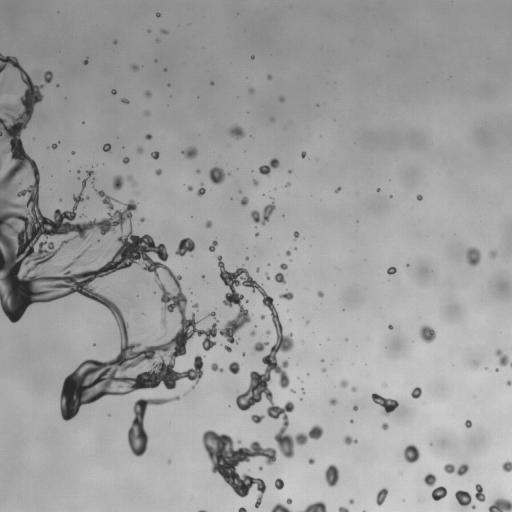droplet: (423, 471, 447, 502), (370, 392, 398, 416), (208, 166, 231, 185), (258, 158, 280, 177), (454, 490, 476, 509), (174, 237, 195, 256), (324, 464, 340, 487), (418, 324, 437, 343), (464, 246, 481, 266), (494, 348, 511, 367), (403, 444, 420, 463), (270, 497, 293, 511), (488, 498, 511, 511), (228, 123, 246, 139), (180, 146, 198, 159), (376, 486, 388, 505), (474, 483, 485, 502), (228, 361, 242, 374), (278, 288, 293, 300), (411, 385, 422, 399), (343, 435, 358, 445), (274, 272, 286, 284), (195, 182, 205, 196), (210, 362, 224, 372), (501, 459, 511, 472), (151, 18, 162, 29), (31, 74, 42, 85), (18, 130, 29, 141), (0, 138, 11, 149), (21, 140, 32, 151), (144, 140, 155, 151), (187, 157, 198, 168), (117, 165, 128, 176), (103, 184, 114, 195), (243, 186, 254, 197), (119, 192, 130, 203), (60, 201, 71, 212), (96, 209, 107, 220), (283, 236, 294, 247), (194, 241, 205, 252), (165, 243, 176, 254), (274, 282, 285, 293), (234, 283, 245, 294), (25, 303, 36, 314), (262, 317, 273, 328), (108, 320, 119, 331), (109, 323, 120, 334), (214, 333, 225, 344), (190, 334, 201, 345), (184, 339, 195, 350), (192, 344, 203, 355), (107, 348, 118, 359), (274, 350, 285, 361), (228, 351, 239, 362), (223, 352, 234, 363), (183, 358, 194, 369), (172, 361, 183, 372), (255, 362, 266, 373), (268, 371, 279, 382), (175, 377, 186, 388), (240, 377, 251, 388), (266, 379, 277, 390), (137, 387, 148, 398), (333, 387, 344, 398), (52, 396, 63, 407), (258, 397, 269, 408), (251, 402, 262, 413), (141, 418, 152, 429), (285, 426, 296, 437), (253, 454, 264, 465), (202, 457, 213, 468), (234, 463, 245, 474), (263, 463, 274, 474), (444, 491, 455, 502), (484, 494, 495, 505), (261, 499, 272, 510), (274, 478, 284, 490), (44, 70, 53, 83), (102, 142, 112, 153), (477, 501, 488, 511), (208, 239, 217, 251), (240, 196, 249, 207), (386, 266, 397, 275), (339, 378, 348, 388), (151, 28, 160, 37), (4, 63, 13, 72), (32, 102, 41, 111), (225, 119, 234, 128), (228, 135, 237, 144), (238, 135, 247, 144), (152, 158, 161, 167), (203, 178, 212, 187), (83, 185, 92, 194), (244, 203, 253, 212), (45, 210, 54, 219), (479, 252, 488, 261), (459, 255, 468, 264), (226, 263, 235, 272), (216, 321, 225, 330), (412, 327, 421, 336), (268, 335, 277, 344), (415, 336, 424, 345), (261, 346, 270, 355), (196, 347, 205, 356), (220, 360, 229, 369), (201, 362, 210, 371), (500, 364, 509, 373), (284, 367, 293, 376), (287, 378, 296, 387), (288, 394, 297, 403), (78, 403, 87, 412), (262, 415, 271, 424), (301, 425, 310, 434), (241, 439, 250, 448), (269, 439, 278, 448), (291, 442, 300, 451), (274, 450, 283, 459), (213, 472, 222, 481), (317, 473, 326, 482), (265, 480, 274, 489), (224, 484, 233, 493), (248, 485, 257, 494), (446, 488, 455, 497), (308, 495, 317, 504), (150, 151, 159, 159), (488, 250, 497, 258), (464, 419, 472, 428), (258, 505, 269, 511), (325, 505, 336, 511), (374, 505, 385, 511), (459, 505, 470, 511), (329, 397, 337, 405), (130, 64, 139, 71), (191, 302, 198, 311), (144, 90, 151, 98), (136, 146, 143, 154), (122, 156, 129, 164), (205, 220, 212, 228), (279, 262, 287, 269), (381, 422, 388, 430), (0, 93, 5, 104), (0, 167, 5, 178), (0, 309, 5, 320), (120, 98, 129, 104), (155, 168, 162, 175), (334, 186, 341, 193), (317, 290, 324, 297), (350, 385, 357, 392), (50, 77, 57, 84), (29, 114, 36, 121), (241, 125, 248, 132), (181, 143, 188, 150), (196, 147, 203, 154), (10, 158, 17, 165), (216, 161, 223, 168), (79, 171, 86, 178), (285, 174, 292, 181), (222, 175, 229, 182), (121, 180, 128, 187), (192, 184, 199, 191), (268, 213, 275, 220), (189, 234, 196, 241), (214, 247, 221, 254), (281, 256, 288, 263), (475, 262, 482, 269), (181, 288, 188, 295), (72, 291, 79, 298), (98, 303, 105, 310), (231, 303, 238, 310), (263, 307, 270, 314), (184, 312, 191, 319), (265, 313, 272, 320), (278, 315, 285, 322), (429, 322, 436, 329), (269, 326, 276, 333), (281, 328, 288, 335), (434, 330, 441, 337), (429, 339, 436, 346), (501, 348, 508, 355), (97, 355, 104, 362), (492, 355, 499, 362), (223, 367, 230, 374), (63, 369, 70, 376), (158, 381, 165, 388), (56, 383, 63, 390), (100, 394, 107, 401), (292, 400, 299, 407), (278, 401, 285, 408), (145, 403, 152, 410), (54, 408, 61, 415), (128, 412, 135, 419), (69, 416, 76, 423), (215, 428, 222, 435), (196, 431, 203, 438), (121, 432, 128, 439), (319, 433, 326, 440), (230, 434, 237, 441), (306, 436, 313, 443), (407, 438, 414, 445), (145, 440, 152, 447), (259, 441, 266, 448), (232, 443, 239, 450), (124, 445, 131, 452), (416, 445, 423, 452), (201, 449, 208, 456), (417, 453, 424, 460), (499, 456, 506, 463), (453, 462, 460, 469), (321, 463, 328, 470), (496, 465, 503, 472), (337, 470, 344, 477), (250, 471, 257, 478), (450, 471, 457, 478), (463, 471, 470, 478), (335, 478, 342, 485), (419, 480, 426, 487), (433, 480, 440, 487), (426, 485, 433, 492), (469, 488, 476, 495), (370, 493, 377, 500), (383, 496, 390, 503), (470, 496, 477, 503), (342, 501, 349, 508), (300, 502, 307, 509), (252, 178, 258, 186), (238, 506, 247, 511), (506, 493, 511, 502), (246, 506, 255, 511), (248, 87, 254, 94), (278, 96, 285, 102), (143, 110, 150, 116), (284, 181, 291, 187), (186, 185, 193, 191), (416, 194, 422, 201), (265, 330, 271, 337), (381, 381, 387, 388), (160, 29, 168, 34), (144, 134, 152, 139), (110, 89, 116, 95), (195, 168, 201, 174), (285, 250, 291, 256), (352, 405, 358, 411), (308, 458, 314, 464), (348, 498, 354, 504), (301, 151, 306, 158), (265, 272, 270, 279), (155, 12, 161, 17), (269, 117, 275, 122), (139, 217, 145, 222), (506, 380, 511, 386), (507, 354, 511, 361), (507, 469, 511, 476), (254, 507, 261, 511), (155, 38, 160, 43), (254, 232, 259, 237), (260, 314, 265, 319), (305, 320, 310, 325), (321, 367, 326, 372), (290, 388, 295, 393), (162, 24, 167, 29), (160, 33, 165, 38), (2, 52, 7, 57), (18, 61, 23, 66), (136, 61, 141, 66), (127, 67, 132, 72), (267, 69, 272, 74), (51, 70, 56, 75), (262, 73, 267, 78), (271, 74, 276, 79), (38, 87, 43, 92), (148, 87, 153, 92), (25, 122, 30, 127), (150, 135, 155, 140), (145, 138, 150, 143), (132, 144, 137, 149), (151, 146, 156, 151), (7, 151, 12, 156), (120, 153, 125, 158), (179, 153, 184, 158), (269, 154, 274, 159), (275, 155, 280, 160), (149, 157, 154, 162), (265, 160, 270, 165), (35, 162, 40, 167), (86, 165, 91, 170), (71, 168, 76, 173), (222, 168, 227, 173), (254, 168, 259, 173), (150, 169, 155, 174), (160, 170, 165, 175), (261, 173, 266, 178), (154, 174, 159, 179), (132, 175, 137, 180), (38, 179, 43, 184), (85, 179, 90, 184), (248, 180, 253, 185), (96, 185, 101, 190), (182, 185, 187, 190), (37, 190, 42, 195), (237, 194, 242, 199), (37, 197, 42, 202), (235, 199, 240, 204), (266, 199, 271, 204), (70, 200, 75, 205), (77, 201, 82, 206), (273, 201, 278, 206), (102, 203, 107, 208), (135, 203, 140, 208), (53, 204, 58, 209), (59, 207, 64, 212), (130, 209, 135, 214), (271, 209, 276, 214), (206, 215, 211, 220), (96, 216, 101, 221), (248, 216, 253, 221), (70, 219, 75, 224), (200, 221, 205, 226), (255, 221, 260, 226), (210, 223, 215, 228), (206, 227, 211, 232), (131, 230, 136, 235), (137, 232, 142, 237), (298, 232, 303, 237), (180, 234, 185, 239), (207, 240, 212, 245), (153, 241, 158, 246), (193, 241, 198, 246), (214, 244, 219, 249), (193, 245, 198, 250), (490, 245, 495, 250), (289, 248, 294, 253), (190, 249, 195, 254), (185, 250, 190, 255), (280, 250, 285, 255), (175, 253, 180, 258), (494, 255, 499, 260), (162, 260, 167, 265), (243, 264, 248, 269), (279, 268, 284, 273), (173, 271, 178, 276), (269, 274, 274, 279), (282, 274, 287, 279), (178, 279, 183, 284), (218, 279, 223, 284), (277, 281, 282, 286), (247, 286, 252, 291), (315, 286, 320, 291), (287, 287, 292, 292), (321, 288, 326, 293), (280, 289, 285, 294), (266, 291, 271, 296), (292, 293, 297, 298), (80, 294, 85, 299), (258, 294, 263, 299), (63, 295, 68, 300), (220, 295, 225, 300), (317, 296, 322, 301), (56, 297, 61, 302), (281, 297, 286, 302), (50, 299, 55, 304), (91, 299, 96, 304), (271, 299, 276, 304), (197, 304, 202, 309), (242, 304, 247, 309), (247, 310, 252, 315), (303, 315, 308, 320), (193, 316, 198, 321), (300, 318, 305, 323), (280, 321, 285, 326), (215, 331, 220, 336), (192, 332, 197, 337), (200, 333, 205, 338), (290, 335, 295, 340), (209, 336, 214, 341), (260, 337, 265, 342), (227, 342, 232, 347), (209, 346, 214, 351), (491, 347, 496, 352), (223, 349, 228, 354), (80, 356, 85, 361), (76, 359, 81, 364), (287, 360, 292, 365), (320, 362, 325, 367), (217, 363, 222, 368), (479, 363, 484, 368), (504, 363, 509, 368), (497, 364, 502, 369), (214, 369, 219, 374), (227, 370, 232, 375), (344, 375, 349, 380), (183, 376, 188, 381), (198, 377, 203, 382), (190, 379, 195, 384), (335, 379, 340, 384), (501, 380, 506, 385), (346, 384, 351, 389), (408, 386, 413, 391), (296, 388, 301, 393), (376, 390, 381, 395), (233, 392, 238, 397), (329, 393, 334, 398), (382, 393, 387, 398), (112, 394, 117, 399), (418, 394, 423, 399), (179, 395, 184, 400), (367, 395, 372, 400), (413, 397, 418, 402), (172, 399, 177, 404), (324, 399, 329, 404), (353, 400, 358, 405), (232, 402, 237, 407), (157, 403, 162, 408), (348, 403, 353, 408), (329, 404, 334, 409), (393, 407, 398, 412), (237, 408, 242, 413), (285, 410, 290, 415), (460, 419, 465, 424), (377, 421, 382, 426), (387, 422, 392, 427), (470, 423, 475, 428), (377, 425, 382, 430), (379, 428, 384, 433), (350, 434, 355, 439), (339, 435, 344, 440), (349, 441, 354, 446), (305, 454, 310, 459), (311, 454, 316, 459), (303, 458, 308, 463), (313, 459, 318, 464), (445, 459, 450, 464), (272, 460, 277, 465), (309, 463, 314, 468), (431, 470, 436, 475), (422, 471, 427, 476), (282, 479, 287, 484), (480, 482, 485, 487), (443, 483, 448, 488), (281, 485, 286, 490), (376, 486, 381, 491), (461, 486, 466, 491), (386, 487, 391, 492), (481, 489, 486, 494), (346, 494, 351, 499), (470, 494, 475, 499), (428, 496, 433, 501), (260, 497, 265, 502), (438, 497, 443, 502), (452, 497, 457, 502), (353, 498, 358, 503), (466, 503, 471, 508), (267, 74, 271, 80), (201, 274, 205, 280), (140, 312, 146, 316), (0, 71, 3, 78), (0, 111, 3, 118), (112, 40, 117, 44), (250, 54, 254, 59), (245, 256, 249, 261), (237, 439, 241, 444), (167, 459, 171, 464), (147, 29, 151, 33), (210, 81, 214, 85), (166, 83, 170, 87), (249, 134, 253, 138), (76, 169, 80, 173), (288, 169, 292, 173), (376, 187, 380, 191), (238, 189, 242, 193), (293, 246, 297, 250), (287, 318, 291, 322), (320, 358, 324, 362), (349, 419, 353, 423), (258, 466, 262, 470), (256, 267, 259, 272), (299, 397, 302, 402), (399, 471, 402, 476), (508, 376, 511, 381), (508, 384, 511, 389), (508, 457, 511, 462), (233, 508, 238, 511), (470, 508, 475, 511), (163, 68, 167, 71), (81, 121, 85, 124), (71, 151, 75, 154), (389, 194, 392, 198), (406, 263, 409, 267), (326, 337, 329, 341), (344, 338, 348, 341), (92, 342, 95, 346), (242, 352, 245, 356), (484, 367, 488, 370), (495, 368, 498, 372), (107, 413, 111, 416), (402, 498, 405, 502), (154, 59, 157, 62), (56, 84, 59, 87), (64, 96, 67, 99), (316, 104, 319, 107), (32, 137, 35, 140), (77, 177, 80, 180), (274, 187, 277, 190), (262, 193, 265, 196), (230, 197, 233, 200), (59, 198, 62, 201), (190, 254, 193, 257), (267, 263, 270, 266), (136, 294, 139, 297), (342, 308, 345, 311), (301, 340, 304, 343), (296, 376, 299, 379), (300, 380, 303, 383), (429, 442, 432, 445), (158, 10, 161, 13), (152, 12, 155, 15), (153, 15, 156, 18), (157, 16, 160, 19), (113, 36, 116, 39), (110, 38, 113, 41), (116, 40, 119, 43), (247, 55, 250, 58), (254, 55, 257, 58), (83, 56, 86, 59), (87, 58, 90, 61), (163, 64, 166, 67), (138, 65, 141, 68), (160, 67, 163, 70), (166, 67, 169, 70), (44, 68, 47, 71), (163, 71, 166, 74), (207, 79, 210, 82), (267, 79, 270, 82), (167, 80, 170, 83), (213, 80, 216, 83), (2, 84, 5, 87), (164, 84, 167, 87), (169, 84, 172, 87), (209, 84, 212, 87), (54, 86, 57, 89), (57, 86, 60, 89), (108, 87, 111, 90), (109, 93, 112, 96), (114, 93, 117, 96), (127, 97, 130, 100), (315, 100, 318, 103), (120, 101, 123, 104), (315, 106, 318, 109), (78, 120, 81, 123), (84, 120, 87, 123), (82, 123, 85, 126), (148, 131, 151, 134), (59, 139, 62, 142), (54, 140, 57, 143), (104, 140, 107, 143), (109, 141, 112, 144), (48, 143, 51, 146), (56, 143, 59, 146), (100, 143, 103, 146), (99, 146, 102, 149), (49, 147, 52, 150), (71, 147, 74, 150), (109, 147, 112, 150), (156, 148, 159, 151), (301, 148, 304, 151), (103, 151, 106, 154), (68, 152, 71, 155), (158, 153, 161, 156), (71, 154, 74, 157), (298, 154, 301, 157), (304, 154, 307, 157), (125, 162, 128, 165), (92, 163, 95, 166), (76, 166, 79, 169), (288, 166, 291, 169), (90, 167, 93, 170), (193, 167, 196, 170), (192, 170, 195, 173), (285, 171, 288, 174), (290, 171, 293, 174), (76, 173, 79, 176), (90, 174, 93, 177), (80, 177, 83, 180), (283, 181, 286, 184), (201, 184, 204, 187), (377, 184, 380, 187), (79, 185, 82, 188), (286, 185, 289, 188), (374, 186, 377, 189), (240, 187, 243, 190), (338, 189, 341, 192), (260, 190, 263, 193), (378, 190, 381, 193), (375, 191, 378, 194), (264, 192, 267, 195), (420, 192, 423, 195), (202, 193, 205, 196), (270, 194, 273, 197), (392, 194, 395, 197), (227, 195, 230, 198), (413, 196, 416, 199), (390, 197, 393, 200), (229, 199, 232, 202), (416, 199, 419, 202), (419, 199, 422, 202), (283, 211, 286, 214), (190, 212, 193, 215), (284, 214, 287, 217), (141, 221, 144, 224), (254, 229, 257, 232), (297, 229, 300, 232), (258, 231, 261, 234), (147, 232, 150, 235), (256, 235, 259, 238), (291, 235, 294, 238), (212, 237, 215, 240), (216, 240, 219, 243), (205, 246, 208, 249), (296, 247, 299, 250), (208, 250, 211, 253), (242, 254, 245, 257), (248, 257, 251, 260), (220, 258, 223, 261), (265, 260, 268, 263), (406, 260, 409, 263), (278, 261, 281, 264), (256, 263, 259, 266), (238, 264, 241, 267), (387, 264, 390, 267), (393, 264, 396, 267), (406, 266, 409, 269), (258, 268, 261, 271), (200, 271, 203, 274), (393, 272, 396, 275), (386, 273, 389, 276), (390, 273, 393, 276), (204, 275, 207, 278), (200, 277, 203, 280), (252, 277, 255, 280), (254, 287, 257, 290), (340, 305, 343, 308), (211, 308, 214, 311), (207, 310, 210, 313), (340, 310, 343, 313), (204, 312, 207, 315), (214, 314, 217, 317), (385, 323, 388, 326), (391, 323, 394, 326), (253, 327, 256, 330), (388, 328, 391, 331), (89, 342, 92, 345), (95, 342, 98, 345), (92, 345, 95, 348), (239, 352, 242, 355), (244, 352, 247, 355), (484, 363, 487, 366), (481, 367, 484, 370), (305, 369, 308, 372), (485, 369, 488, 372), (323, 371, 326, 374), (495, 371, 498, 374), (309, 372, 312, 375), (305, 375, 308, 378), (417, 384, 420, 387), (191, 388, 194, 391), (303, 388, 306, 391), (352, 391, 355, 394), (124, 393, 127, 396), (409, 395, 412, 398), (224, 403, 227, 406), (357, 405, 360, 408), (356, 408, 359, 411), (351, 409, 354, 412), (350, 416, 353, 419), (346, 419, 349, 422), (470, 419, 473, 422), (352, 420, 355, 423), (356, 437, 359, 440), (474, 481, 477, 484), (291, 498, 294, 501), (258, 504, 261, 507), (199, 507, 202, 510), (360, 507, 363, 510), (122, 146, 124, 149), (251, 169, 253, 172), (282, 214, 284, 217), (356, 220, 359, 222), (254, 226, 257, 228), (289, 259, 292, 261), (190, 291, 192, 294), (276, 303, 279, 305), (286, 309, 288, 312), (306, 373, 309, 375), (486, 509, 489, 511), (197, 96, 199, 98), (96, 164, 98, 166), (236, 168, 238, 170), (303, 237, 305, 239), (220, 344, 222, 346), (228, 405, 230, 407), (57, 11, 59, 12), (319, 344, 321, 345), (190, 301, 191, 302), (385, 347, 386, 348)
ligament: (127, 395, 180, 457), (443, 463, 469, 476), (295, 501, 327, 511), (251, 341, 269, 355), (46, 140, 60, 149), (249, 324, 257, 336), (151, 287, 157, 300), (293, 230, 299, 241), (337, 506, 349, 511), (388, 324, 399, 329), (82, 56, 88, 65), (301, 387, 305, 394), (197, 510, 207, 511), (362, 510, 366, 511)
